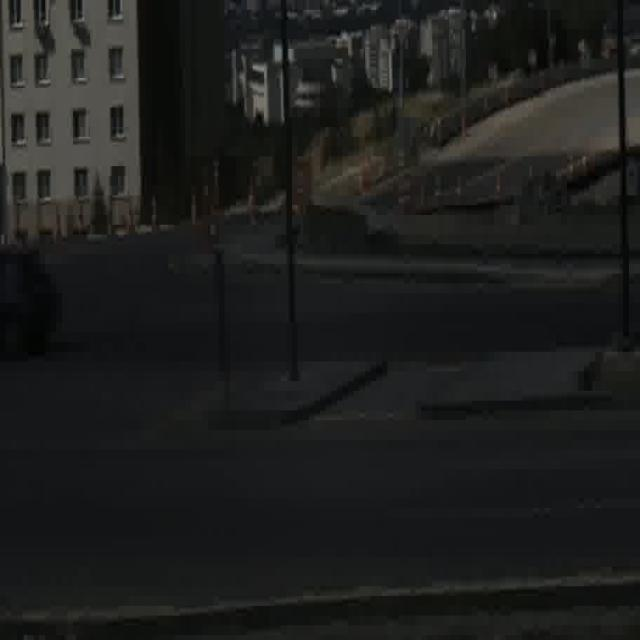Car: (0, 247, 64, 358)
